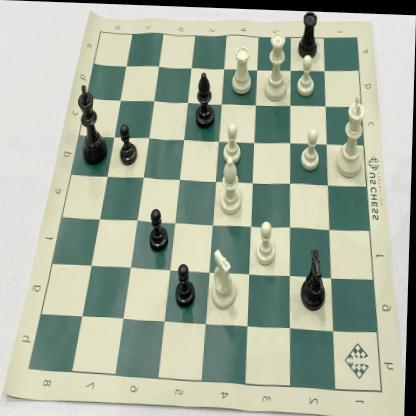black-bishop: (194, 68, 217, 131)
black-king: (74, 81, 112, 168)
black-knight: (296, 244, 331, 314)
black-pawn: (175, 256, 199, 310), (148, 203, 172, 255), (118, 118, 140, 168)
black-rook: (296, 8, 324, 63)
white-bishop: (219, 154, 249, 216)
white-king: (334, 89, 370, 178)
white-knight: (209, 242, 240, 312)
white-pawn: (292, 50, 322, 100), (256, 215, 281, 270), (300, 124, 324, 172), (222, 117, 246, 163)
white-queen: (262, 25, 290, 102)
white-rook: (229, 40, 256, 96)
